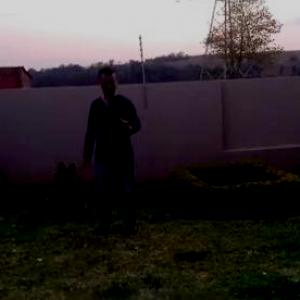takeoff-hand: (112, 105, 143, 140)
